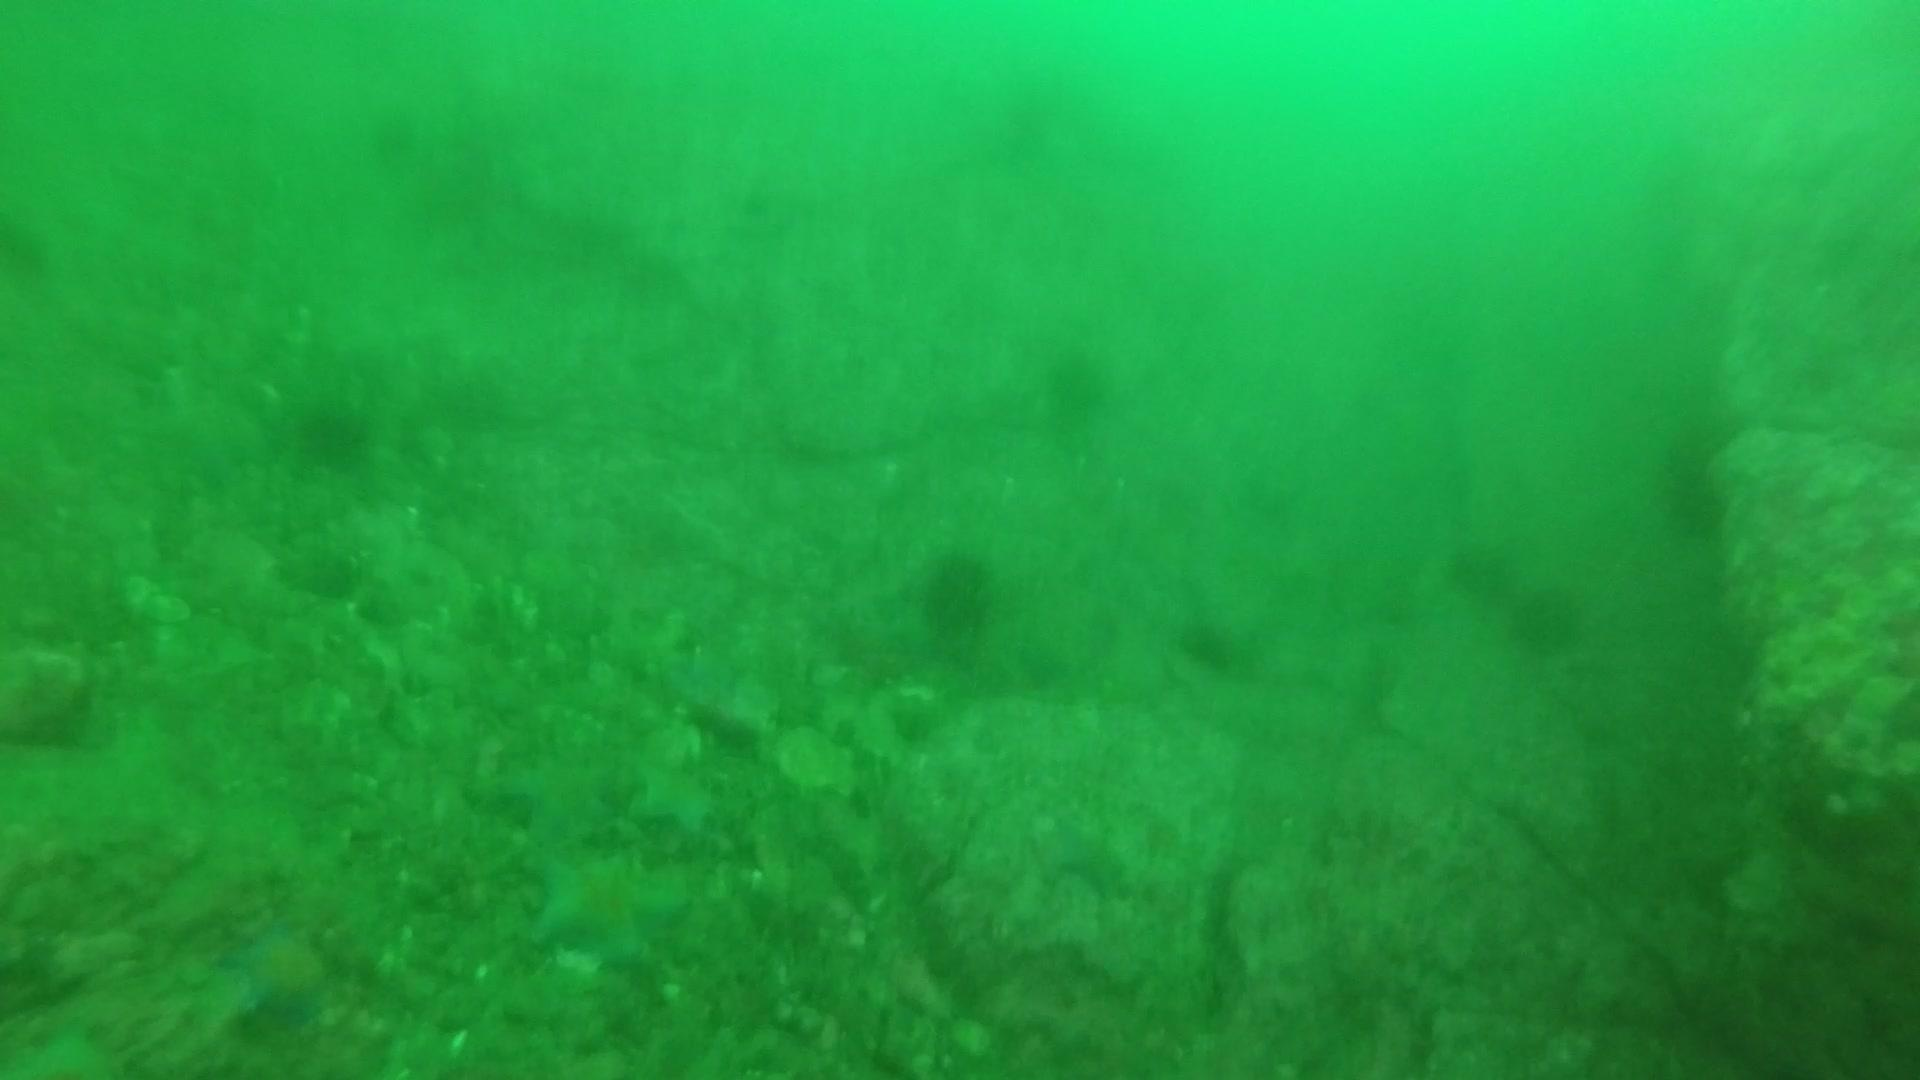echinus: (1652, 430, 1735, 546), (913, 545, 1001, 644), (1036, 340, 1117, 427), (1503, 578, 1590, 657), (291, 393, 375, 472), (1443, 534, 1523, 605), (1174, 611, 1247, 676), (0, 207, 55, 289), (363, 103, 425, 169)
starfish: (524, 847, 692, 975), (216, 911, 339, 1029), (495, 738, 625, 847), (149, 378, 272, 484), (1033, 807, 1135, 902), (625, 756, 725, 839)
